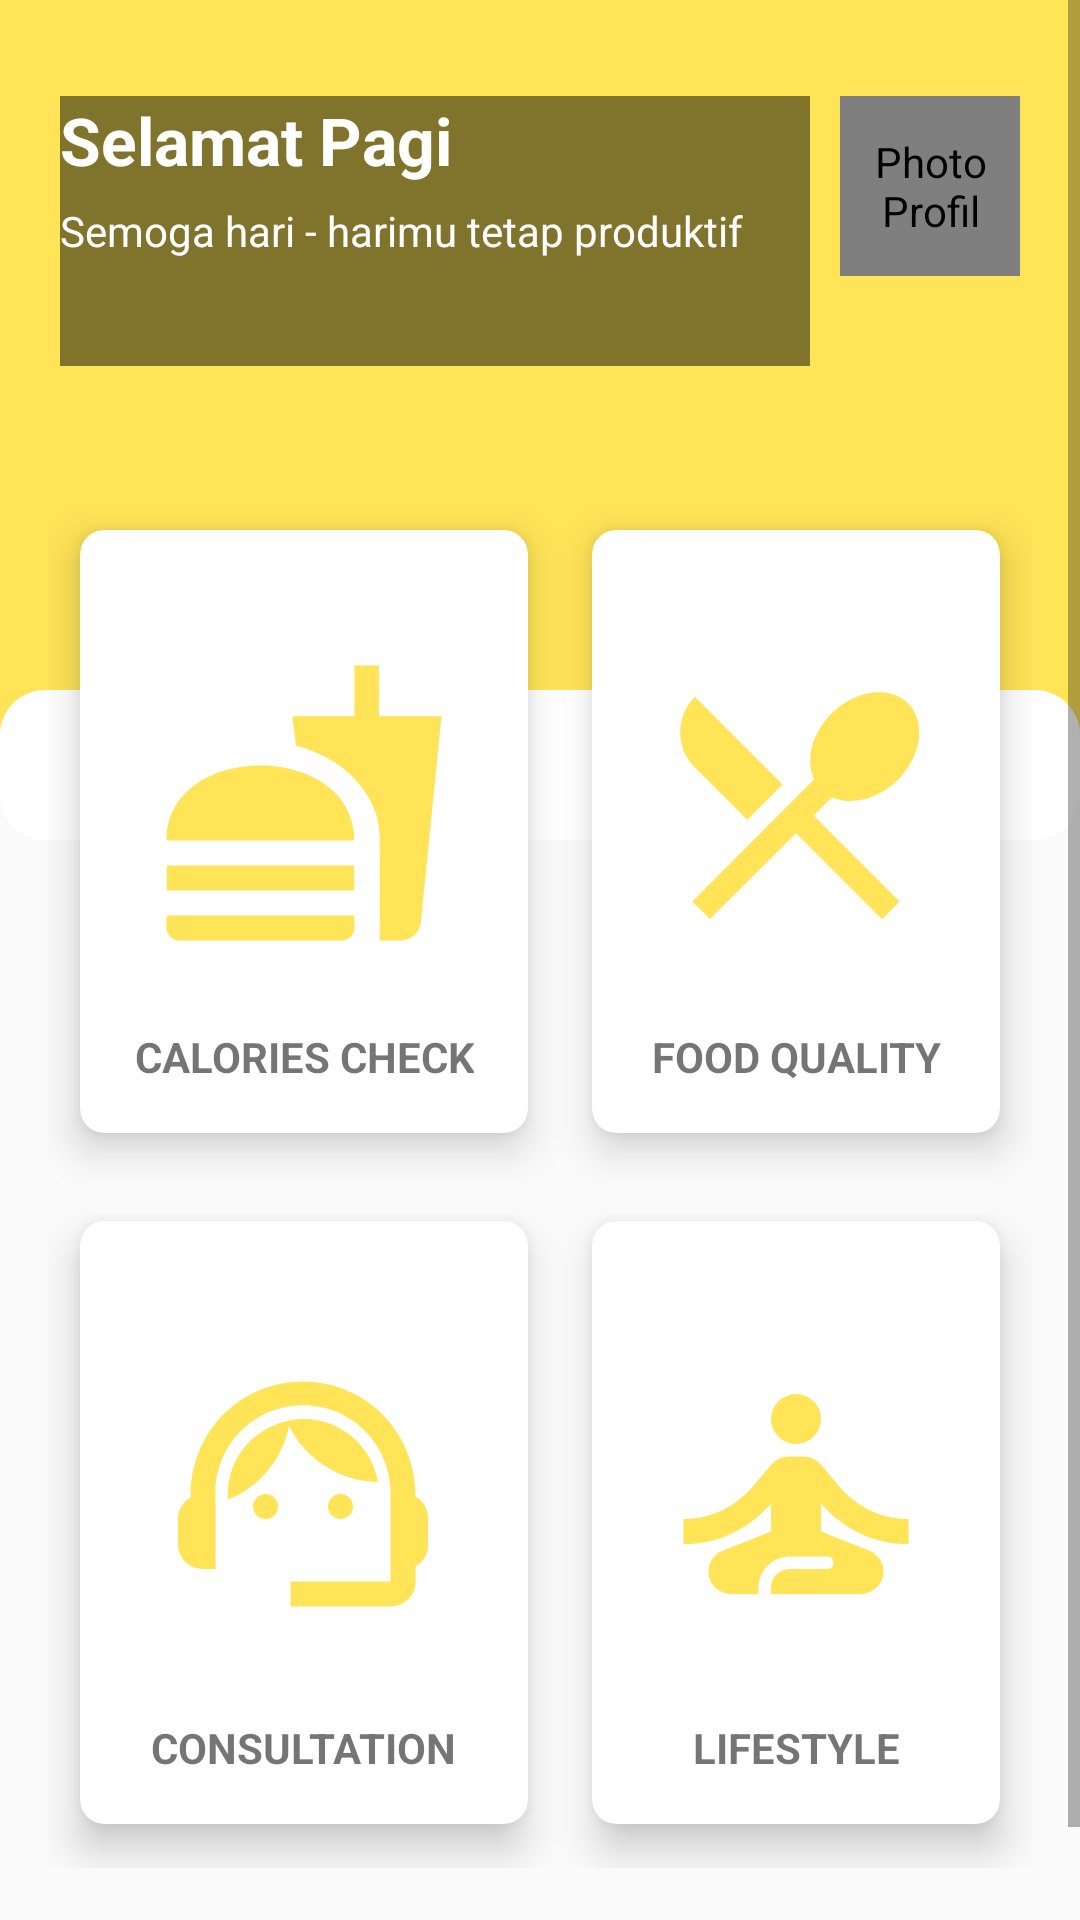

Named icons in this screenshot (1080x1920) and their bounding boxes, (x1, y1, x2, y2):
support agent: (178, 1381, 428, 1607)
